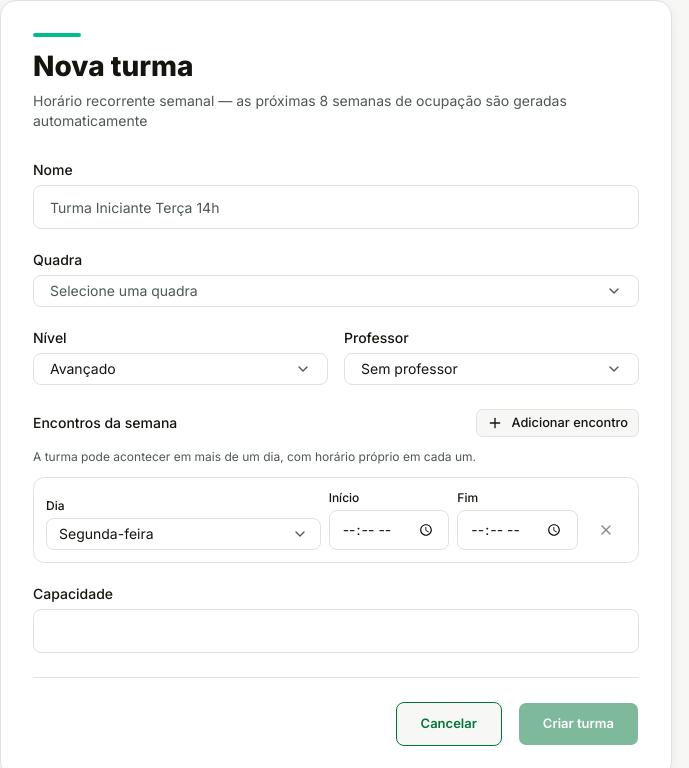
it: SPEC-079/AC-005 — criar turma: nível obrigatório, o primeiro já escolhido › não oferece "Sem nível": as opções são só os níveis do clube
Click the dropdown named "Nível": [83, 368] box [33,353,328,385]
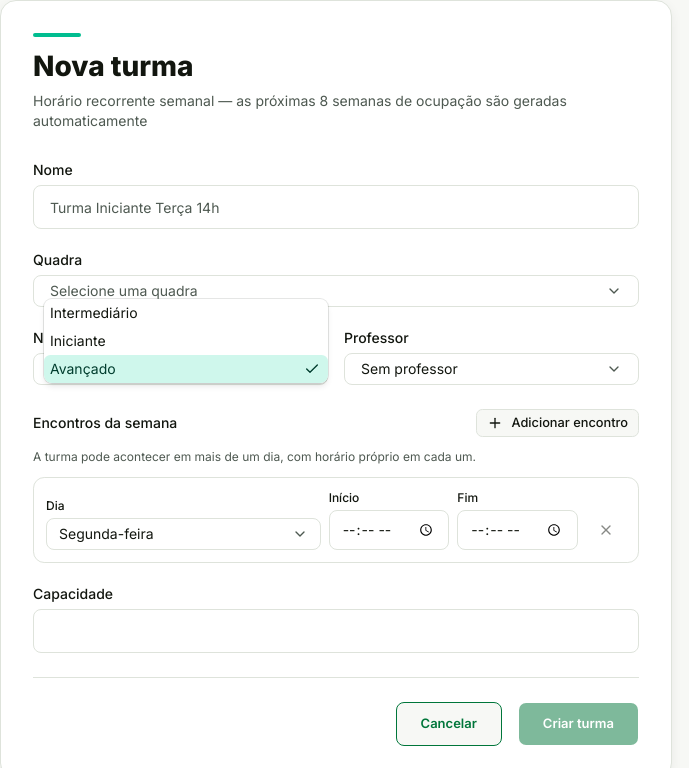
Result: the options read "Intermediário", "Iniciante", "Avançado", in this order at [50,304,138,321]; [50,332,106,349]; [44,355,328,383]
